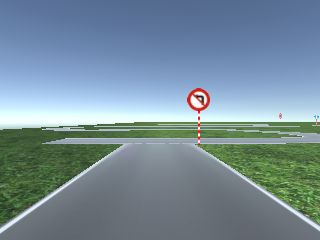0: (1, 197, 320, 239)
NoLeft: (186, 88, 211, 112)
